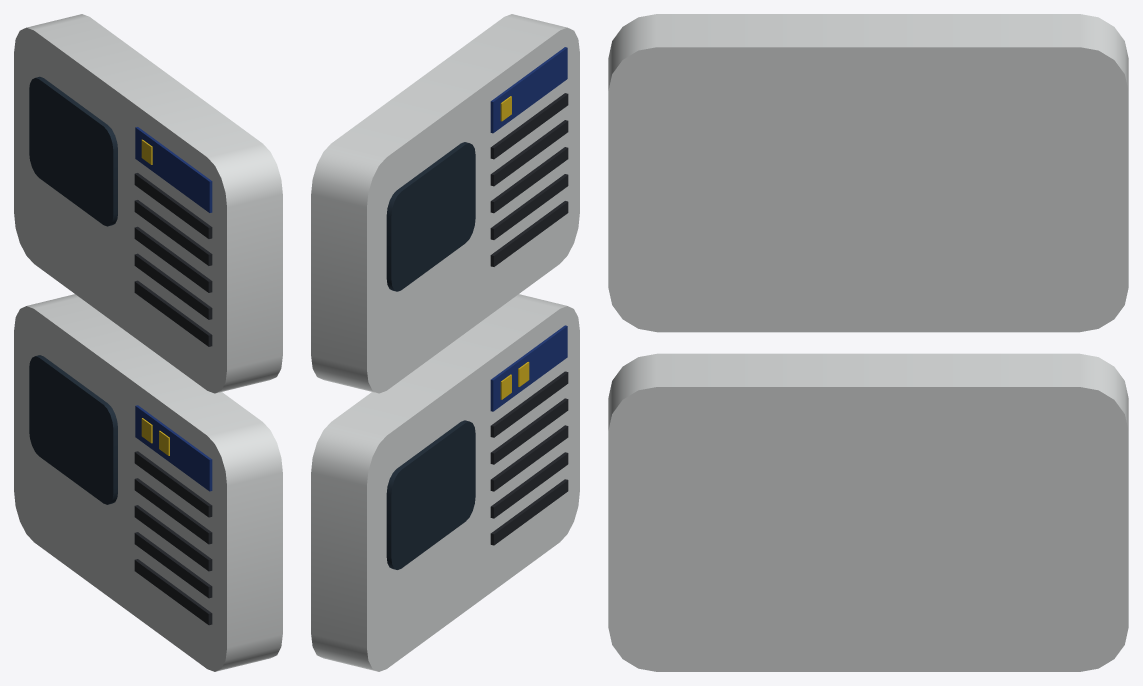
Rendered from mo4_steril.obj.
3 views of the same model, side by side, from view 1: azimuth 30°, elevation 25°; view 2: azimuth 150°, elevation 25°; view 3: azimuth 270°, elevation 25° (orthographic). The views are drawn at different scales.
Parts seen in each view (by area): view 1: mo4_steril; view 2: mo4_steril; view 3: mo4_steril.
Part boxes in pixels (x1,y1,x2,y2): mo4_steril: (14,14,282,671); mo4_steril: (311,14,579,671); mo4_steril: (608,14,1128,671).
Size of the model in its own units: 0.141 by 1.14 by 0.86.
